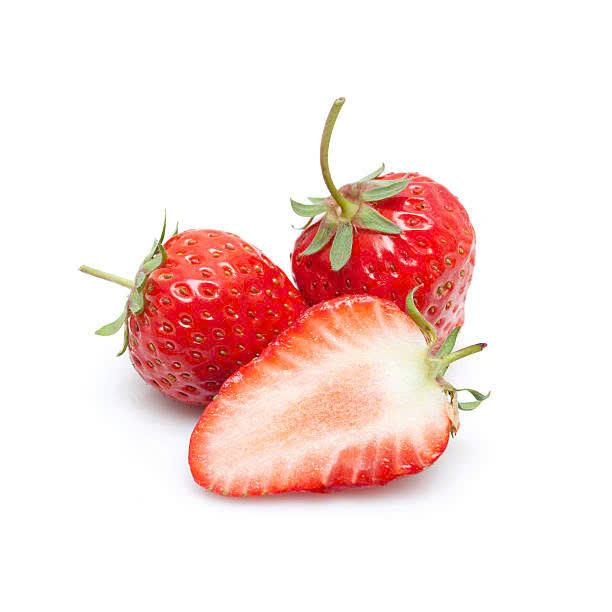strawberry: (184, 294, 466, 497), (293, 170, 490, 307), (114, 234, 276, 399)
